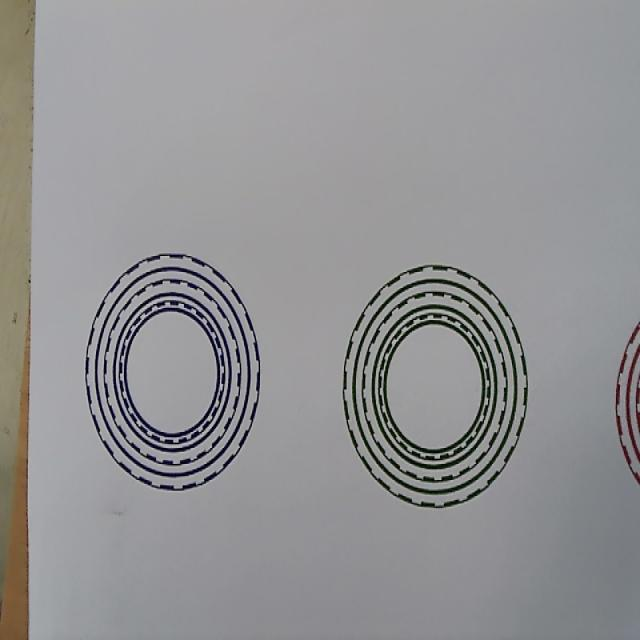b: (85, 253, 260, 491)
g: (342, 263, 529, 509)
